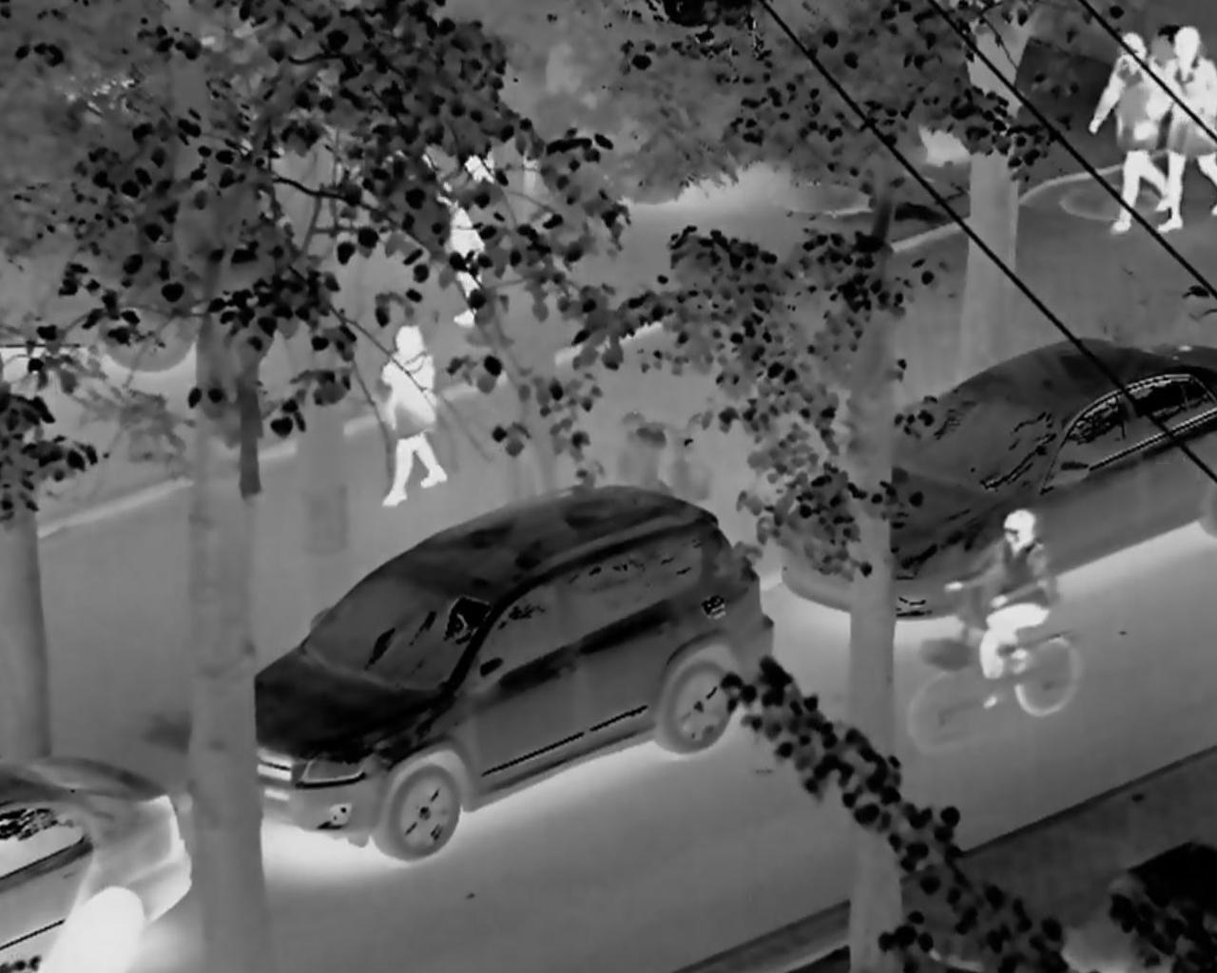person: (381, 103, 512, 333), (362, 305, 466, 553), (950, 508, 1054, 708), (1086, 10, 1169, 250), (1149, 20, 1217, 235)
